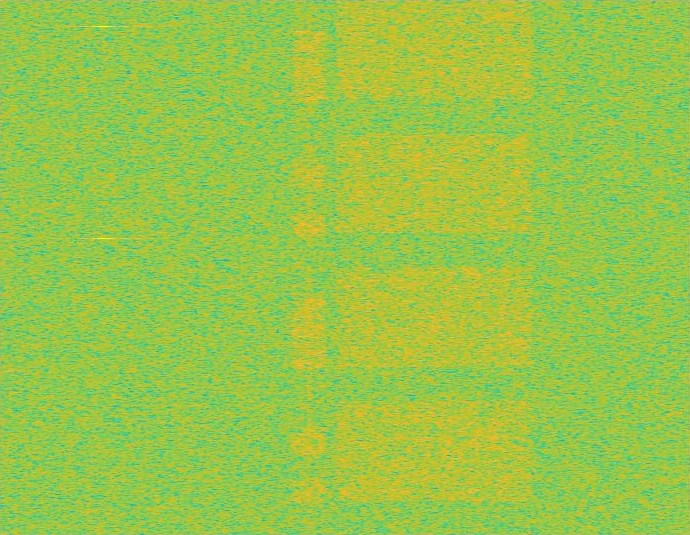5G: (331, 0, 538, 534)
DSSS: (307, 0, 312, 534)
LTE: (292, 0, 327, 534)
Radar: (97, 0, 110, 534)
